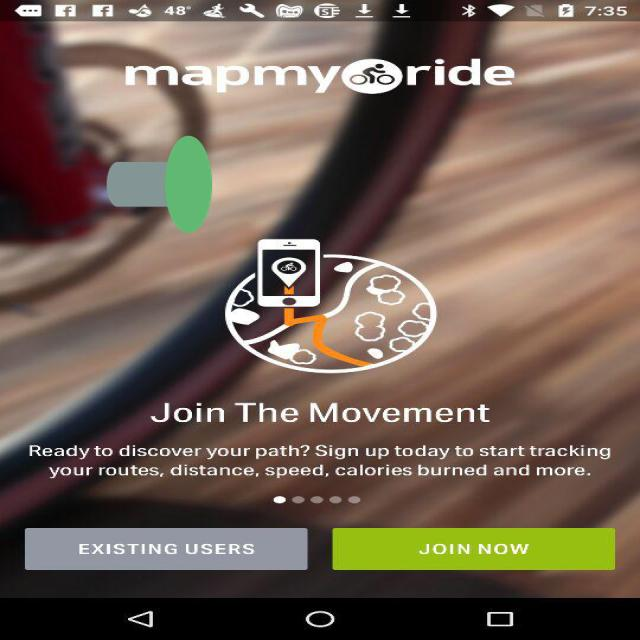social proof: (107, 76, 212, 293)
